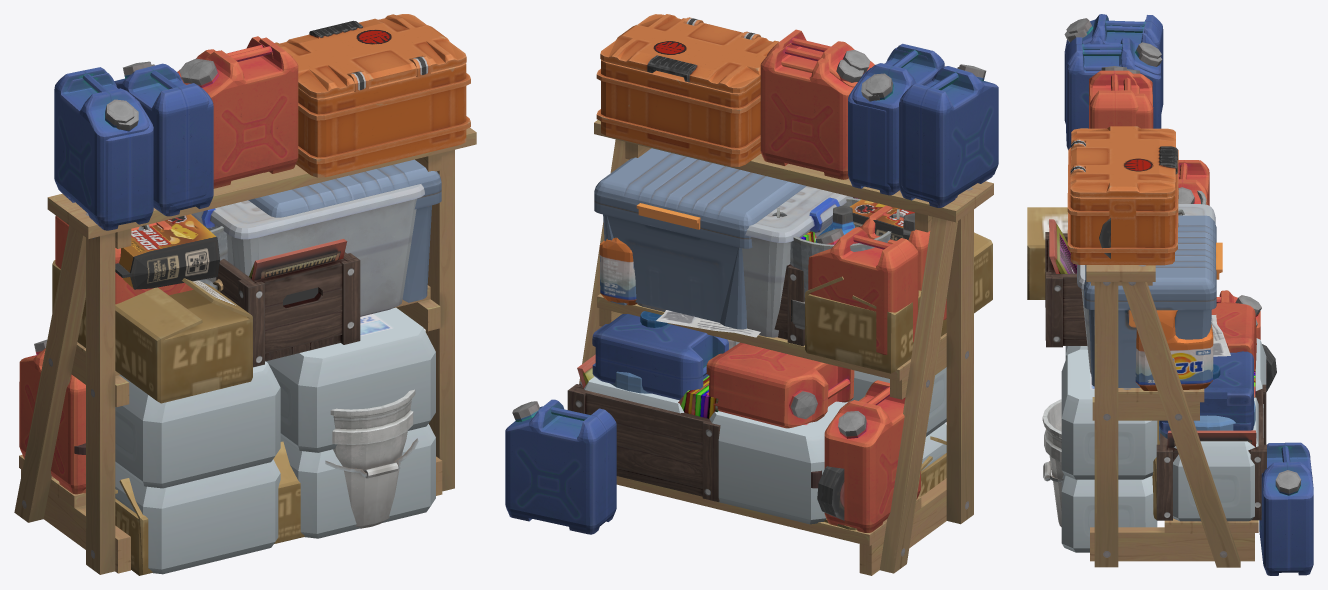
Rendered from P_Shelf_006_S1_M01.obj.
3 views of the same model, side by side, from view 1: azimuth 30°, elevation 25°; view 2: azimuth 150°, elevation 25°; view 3: azimuth 270°, elevation 25° (orthographic). The views are drawn at different scales.
Size of the model in its own units: 1.94 by 2.23 by 1.43.
74 materials, 74 textured.
